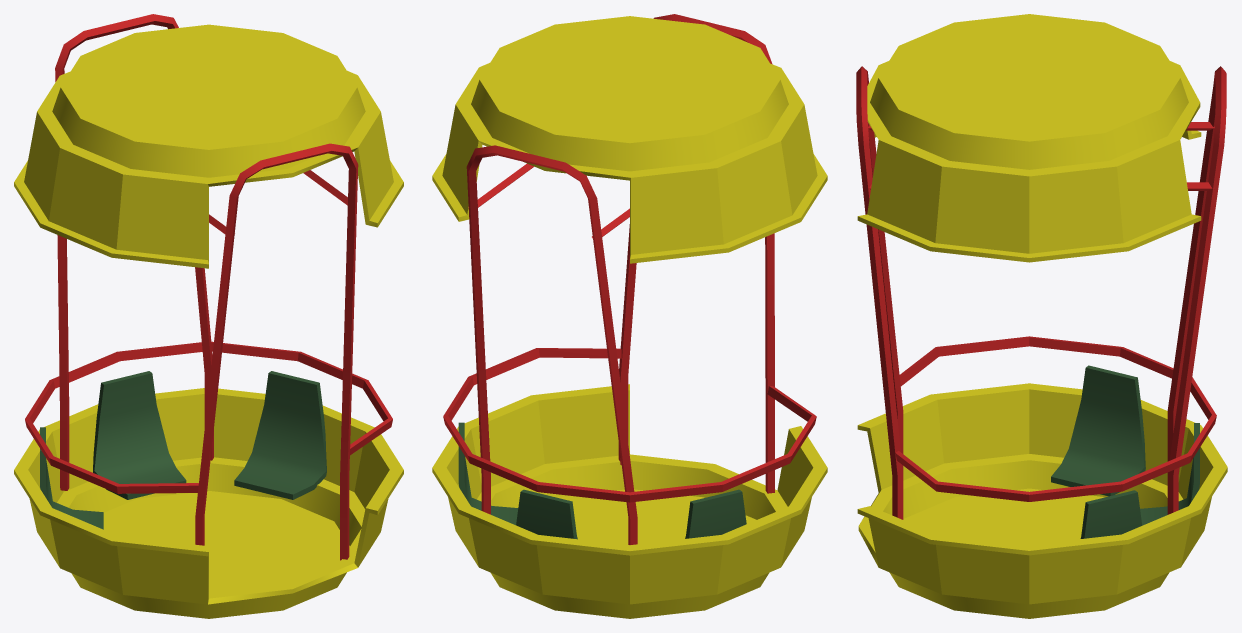
Rendered from SM_cabin_ferriswheel.fbx.
3 renders of one model, left to right at view 1: azimuth 30°, elevation 25°; view 2: azimuth 150°, elevation 25°; view 3: azimuth 270°, elevation 25°, orthographic.
Parts seen in each view (by area): view 1: Cylinder001; view 2: Cylinder001; view 3: Cylinder001.
Boxes of the visible parts, x1,y1,x2,y2 form: Cylinder001: [14, 14, 403, 618]; Cylinder001: [432, 14, 827, 618]; Cylinder001: [856, 14, 1227, 618].
Size of the model in its own units: 81.13 by 108 by 76.
